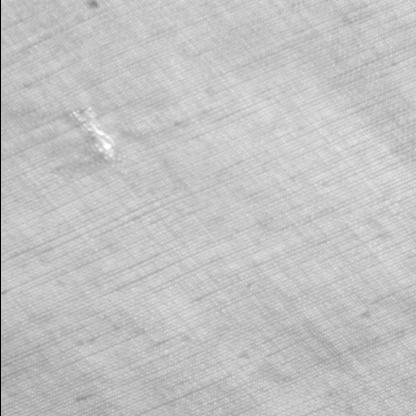hole: (62, 104, 127, 165)
